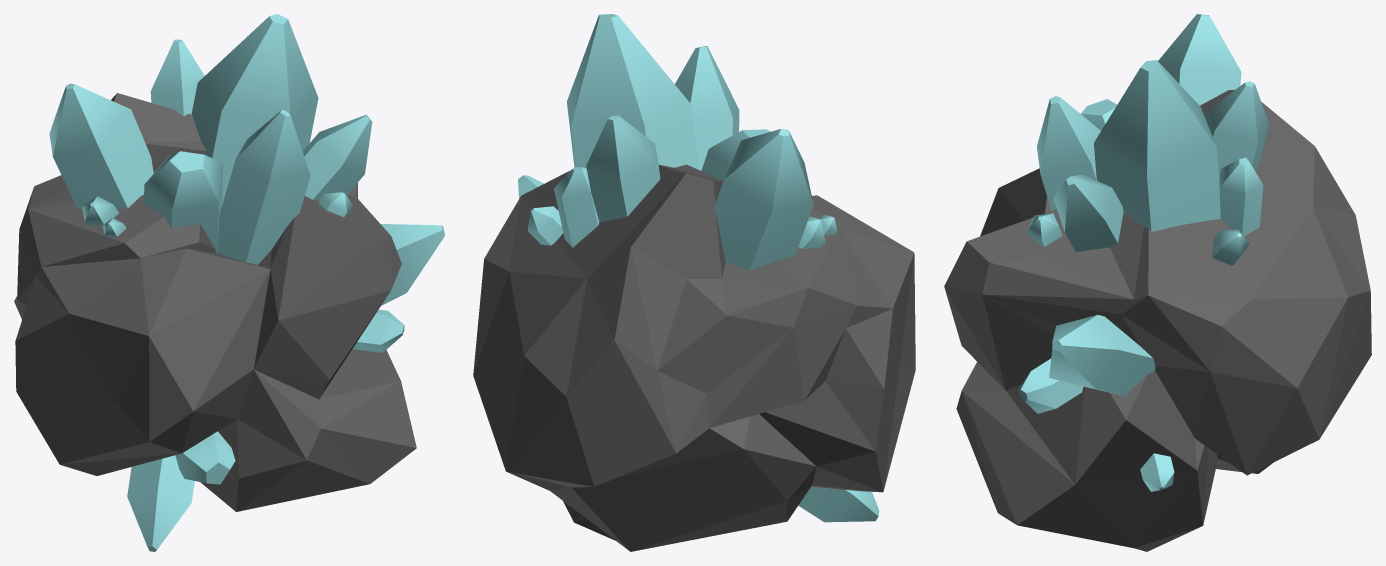
The model's file is crystal_stone_2.fbx.
The picture shows the model from 3 angles, left to right: view 1: azimuth 30°, elevation 25°; view 2: azimuth 150°, elevation 25°; view 3: azimuth 270°, elevation 25°; orthographic projection. The views are drawn at different scales.
Parts seen in each view (by area): view 1: Cliff2_low, pCube1, pCube3, pCube12, pCube6, pCube17, pCube16, pCube15, pCube10, pCube19, pCube18, pCube65 (+1 smaller); view 2: Cliff2_low, pCube1, pCube12, pCube10, pCube3, pCube14, pCube17, pCube6, pCube66, pCube65; view 3: Cliff2_low, pCube1, pCube15, pCube12, pCube3, pCube16, pCube10, pCube14, pCube18, pCube66, pCube67, pCube68 (+1 smaller).
Boxes of the visible parts, x1,y1,x2,y2 form: Cliff2_low: (14,93,416,511); pCube1: (191,14,318,206); pCube3: (217,110,310,264); pCube12: (49,83,153,208); pCube6: (143,151,223,253); pCube17: (127,455,194,551); pCube16: (302,114,372,200); pCube15: (381,224,444,305); pCube10: (150,39,204,115); pCube19: (175,431,235,484); pCube18: (352,309,404,352); pCube65: (82,196,118,225); Cliff2_low: (473,164,915,551); pCube1: (567,14,698,169); pCube12: (713,128,813,270); pCube10: (586,115,660,222); pCube3: (675,46,739,170); pCube14: (554,167,599,247); pCube17: (798,486,879,522); pCube6: (701,129,770,180); pCube66: (527,206,563,245); pCube65: (798,216,825,248); Cliff2_low: (944,89,1371,551); pCube1: (1094,60,1220,231); pCube15: (1049,315,1155,395); pCube12: (1158,14,1241,105); pCube3: (1037,96,1100,210); pCube16: (1053,174,1123,251); pCube10: (1205,81,1268,179); pCube14: (1219,157,1263,236); pCube18: (1018,358,1083,413); pCube66: (1212,229,1249,265); pCube67: (1140,453,1174,491); pCube68: (1026,213,1062,246).
Bounding box in the file's own units: 2.5 × 2.99 × 2.33.
